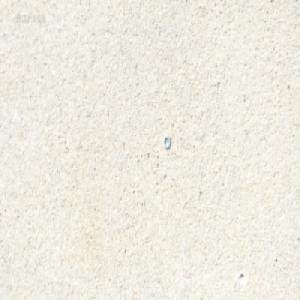Washer: (163, 134, 171, 149)
